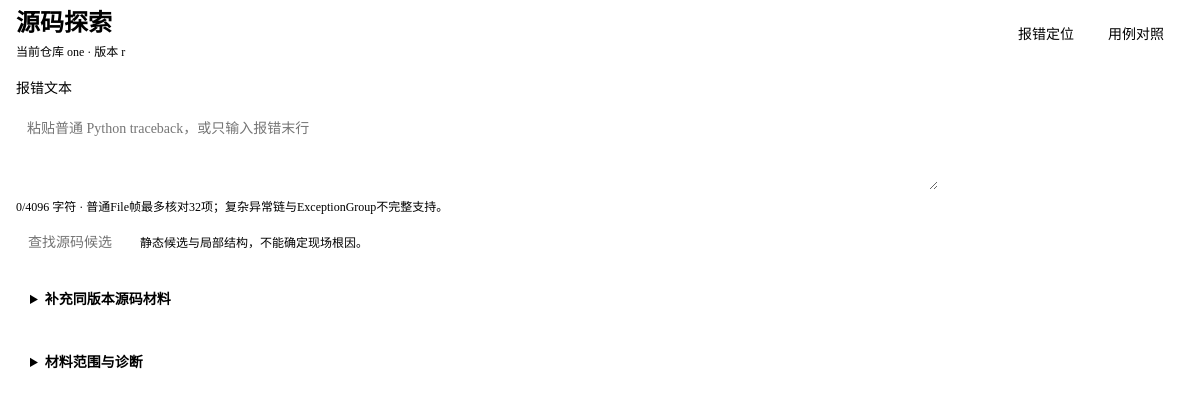
source exploration state and source identity › gives a real next step for PARSE_FAILED without fake results
The image size is (1193, 407).
Click the button "用例对照" at (1136, 35), box [1096, 17, 1176, 53]
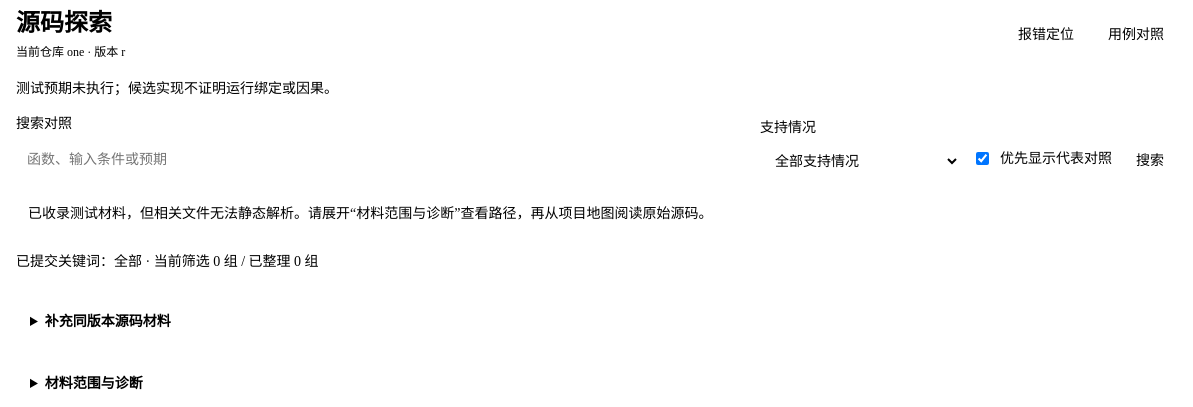
Check: the text "项目地图" is shown, box [28, 206, 712, 221]
